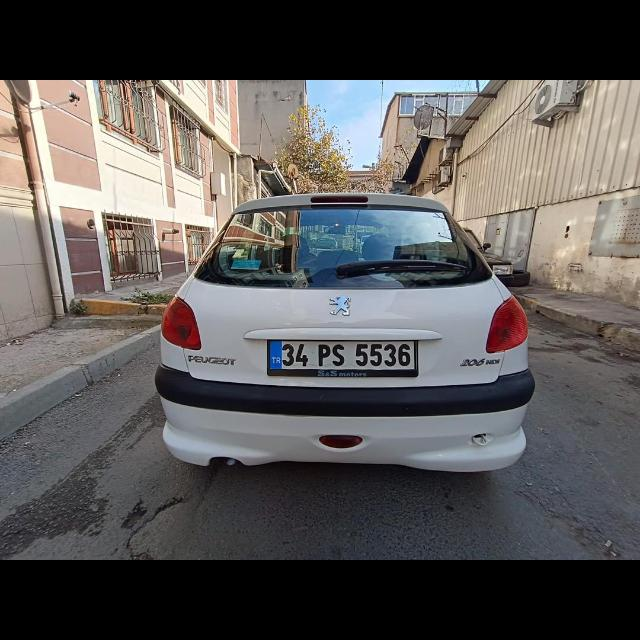Plaka: (269, 340, 416, 370)
